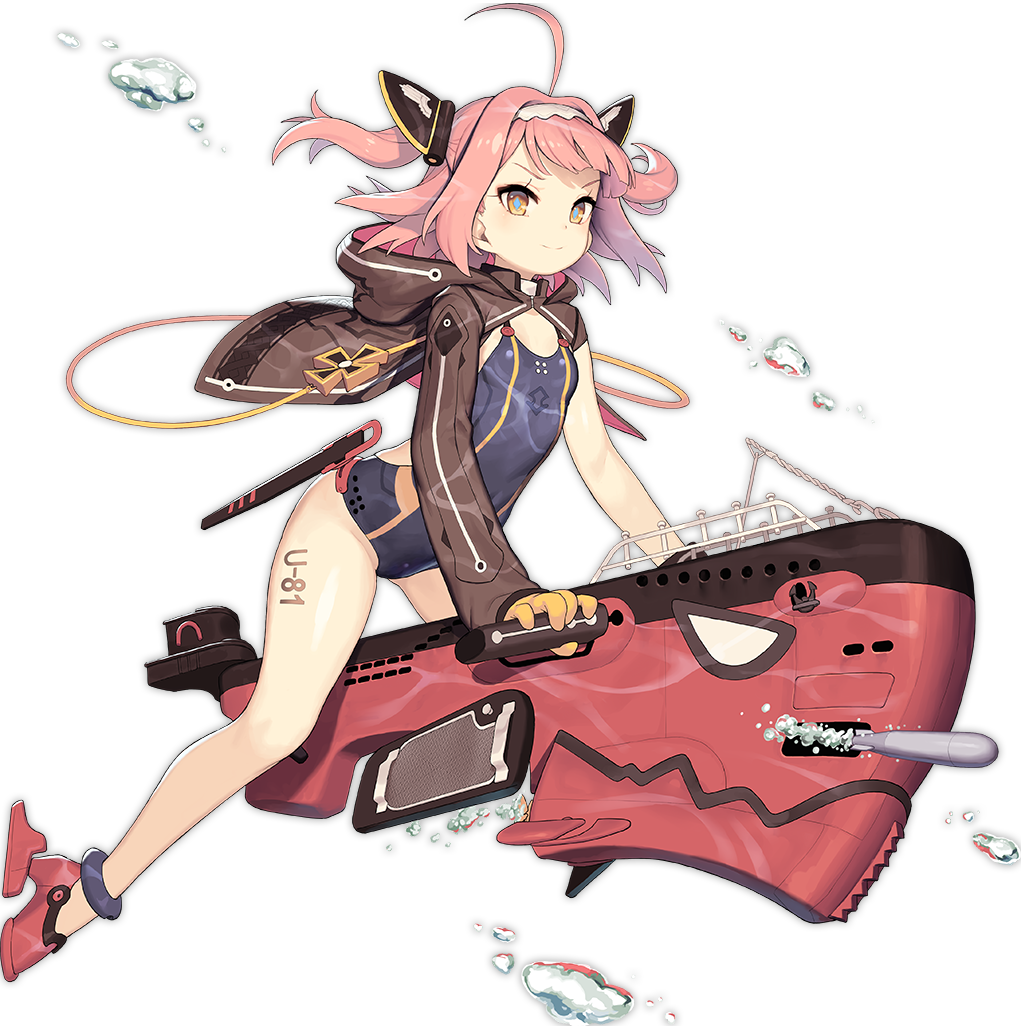person: (71, 48, 923, 887)
